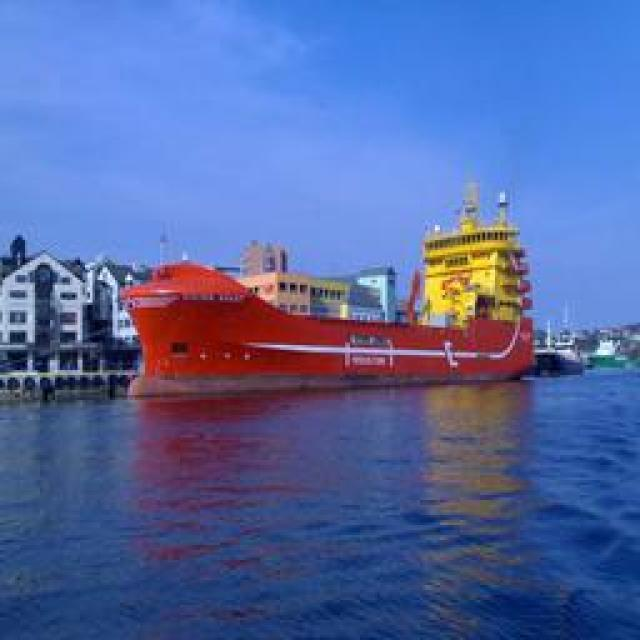ship2: (121, 184, 535, 398)
